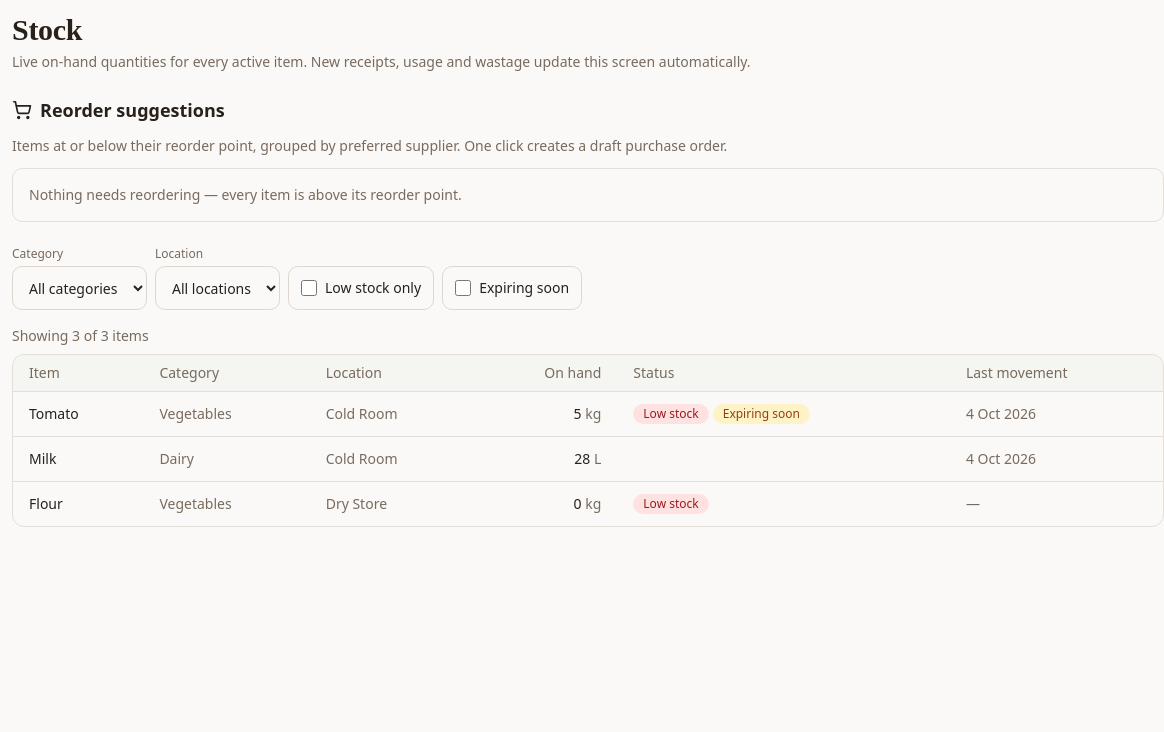
Test: StockOverviewPage › combines category, location, low-stock and expiring filters
The width and height of the screenshot is (1164, 732).
// Category filter alone: Vegetables → Tomato + Flour.
Step 1. Select "Vegetables" in the dropdown labelled "Category" → (80, 288), box [12,266,147,310]
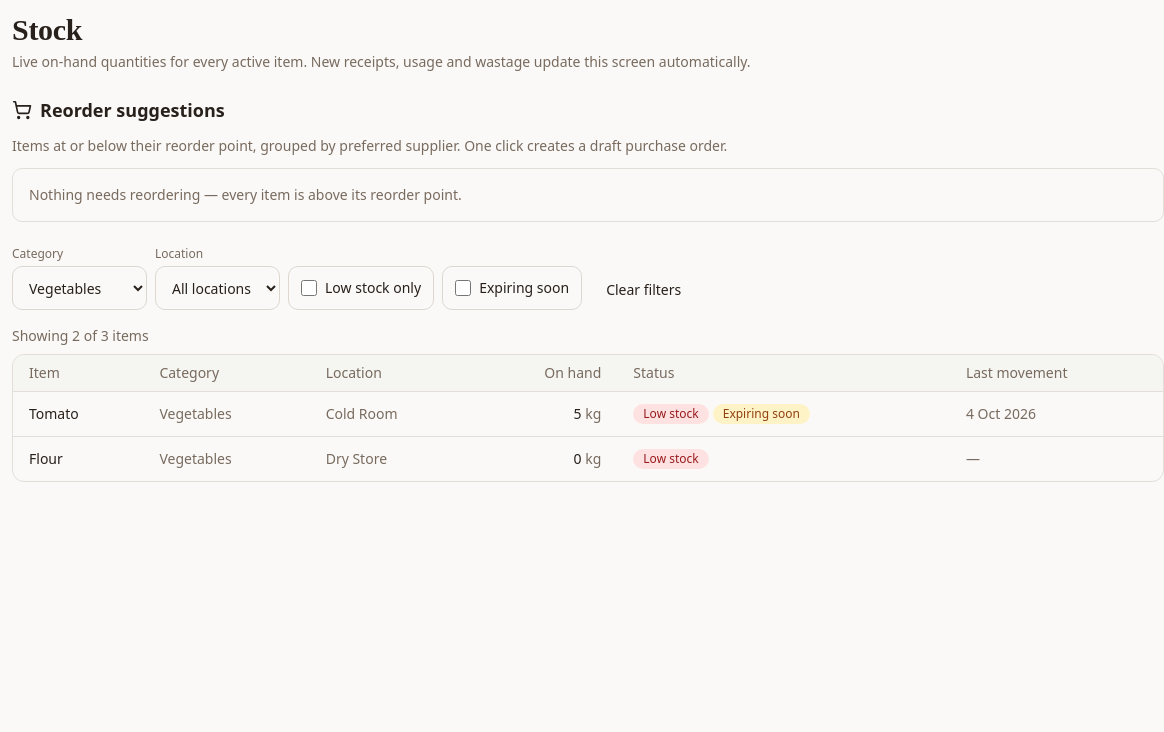
Now the text "Showing 2 of 3 items" is shown, box [12,326,149,345]
Now no links "Milk" are shown
// Add low-stock only: still Tomato + Flour (both low).
Step 2. Click the checkbox labelled "Low stock only" → (309, 288), box [301,280,317,296]
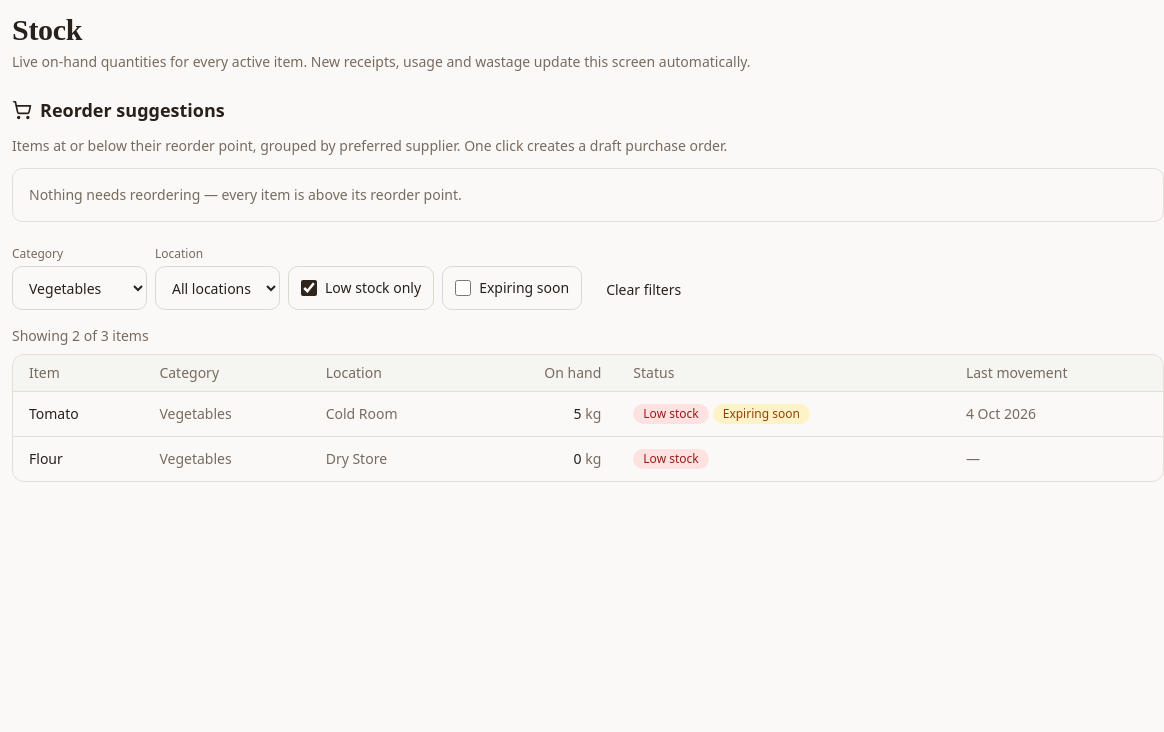
Now the text "Showing 2 of 3 items" is shown, box [12,326,149,345]
// Add expiring soon: only Tomato (Flour has no expiry).
Step 3. Click the checkbox labelled "Expiring soon" → (463, 288), box [455,280,471,296]
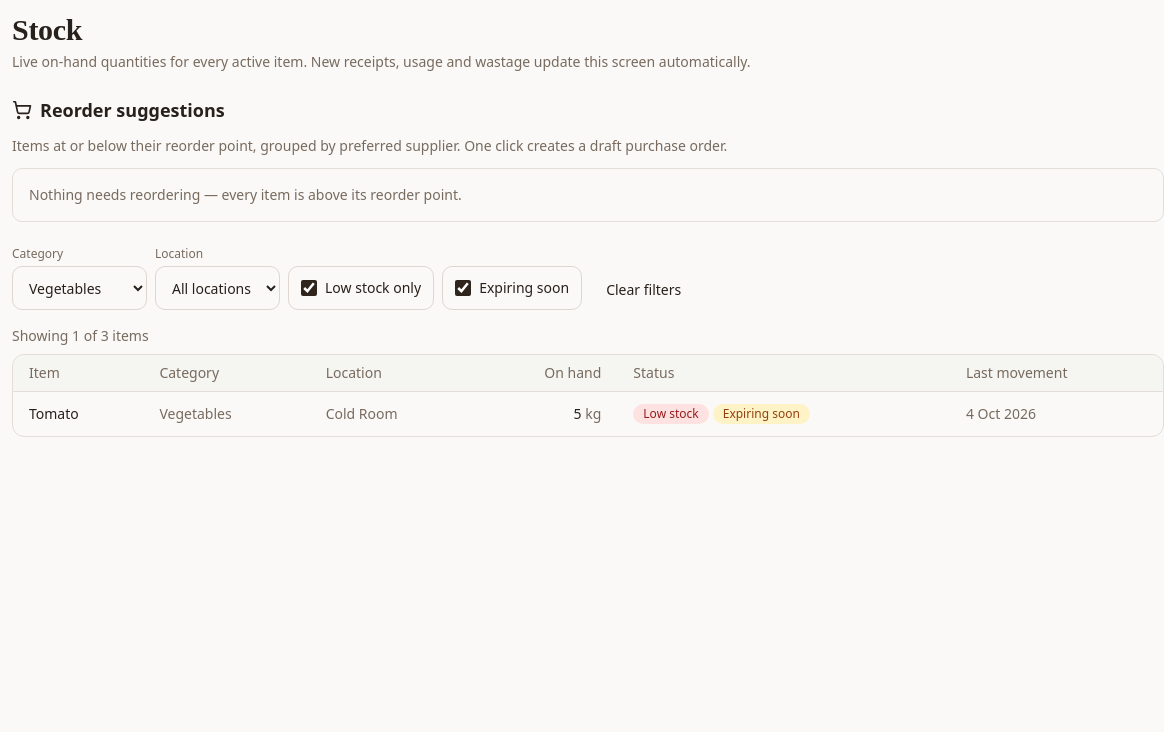
Now the text "Showing 1 of 3 items" is shown, box [12,326,149,345]
Now the number of links "Tomato" is 2
Now no links "Flour" are shown
// Location Dry Store excludes Tomato → empty with a clear action.
Step 4. Select "Dry Store" in the dropdown labelled "Location" → (218, 288), box [155,266,280,310]
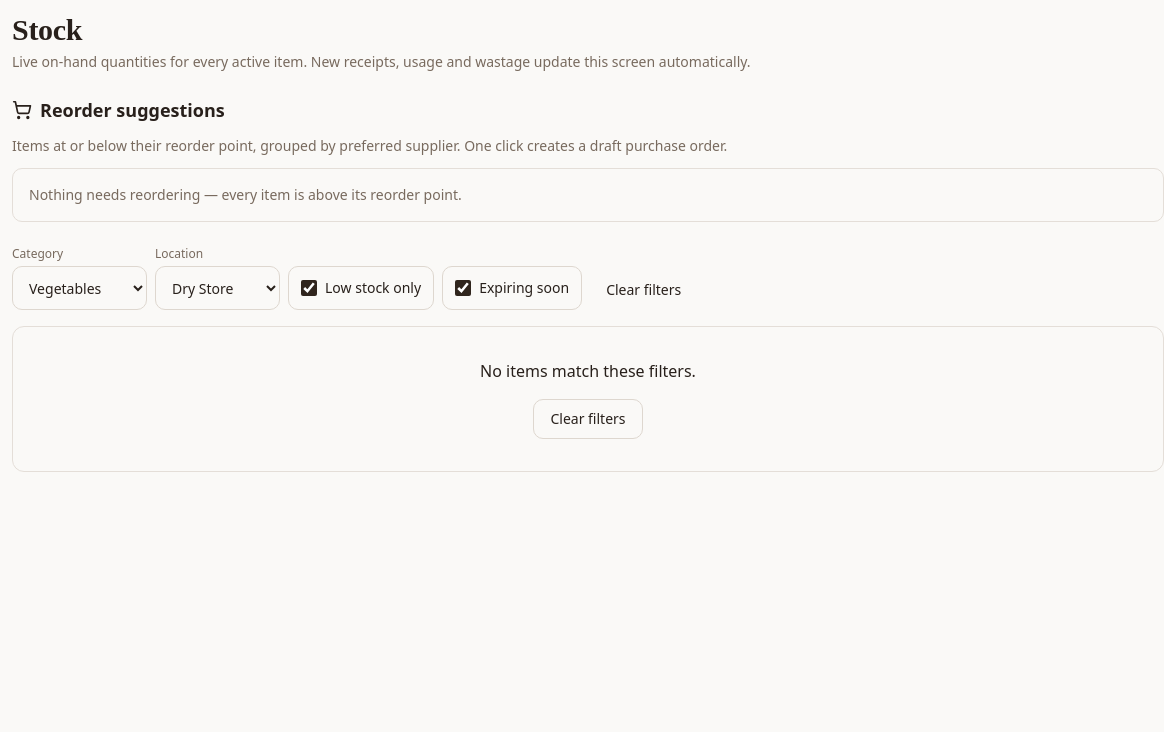
Now the text "No items match these filters." is shown, box [480,360,696,382]
Step 5. Click the button "Clear filters" below "No items match these filters." → (588, 419), box [533,399,642,439]
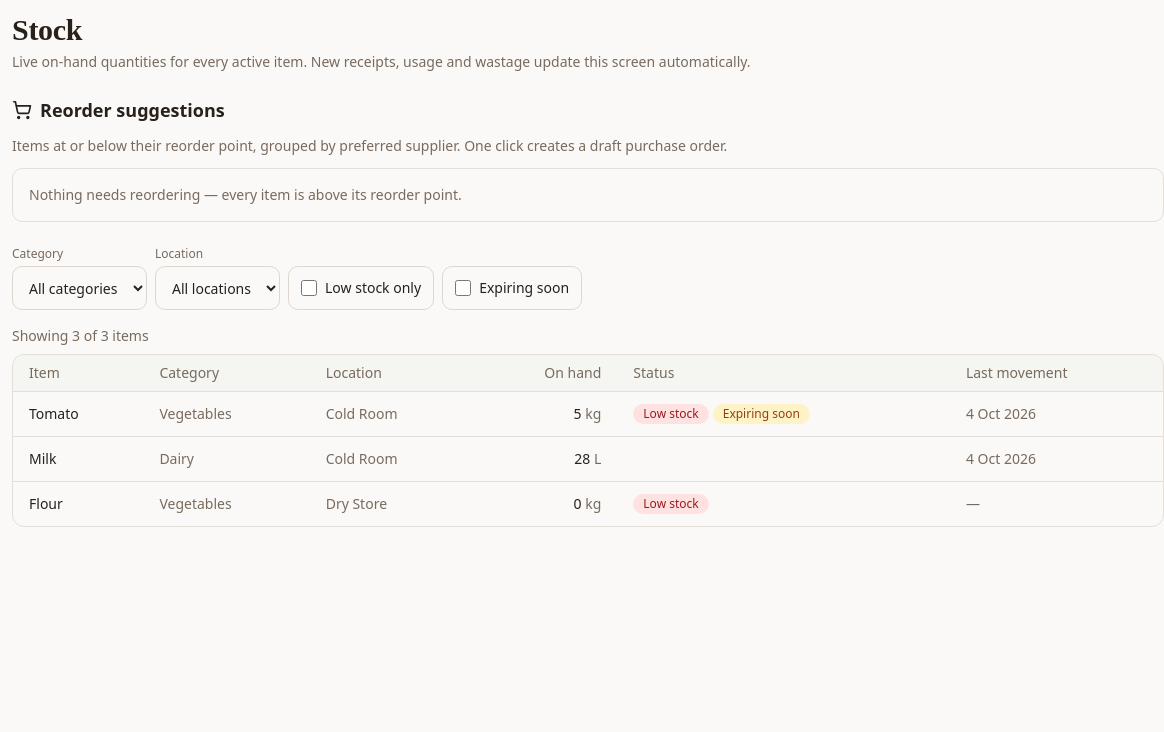
Now the text "Showing 3 of 3 items" is shown, box [12,326,149,345]
